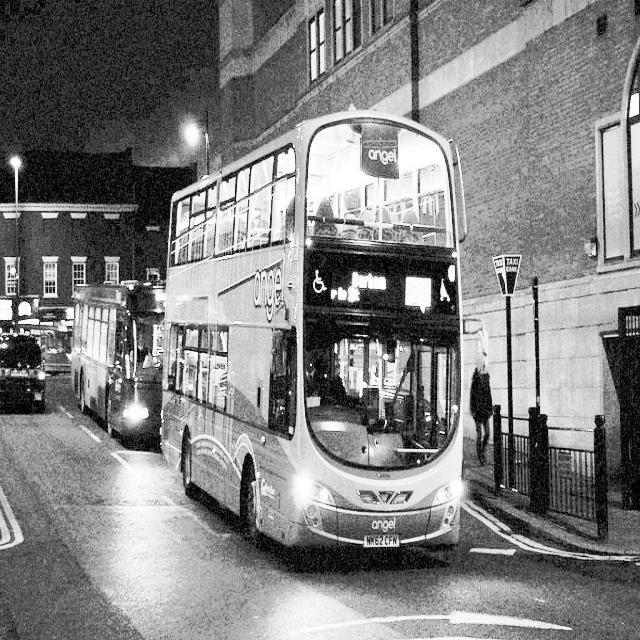Bus: (151, 101, 471, 559), (53, 257, 171, 464)
Car: (0, 314, 59, 435)
